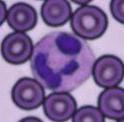N: (30, 30, 94, 90)
